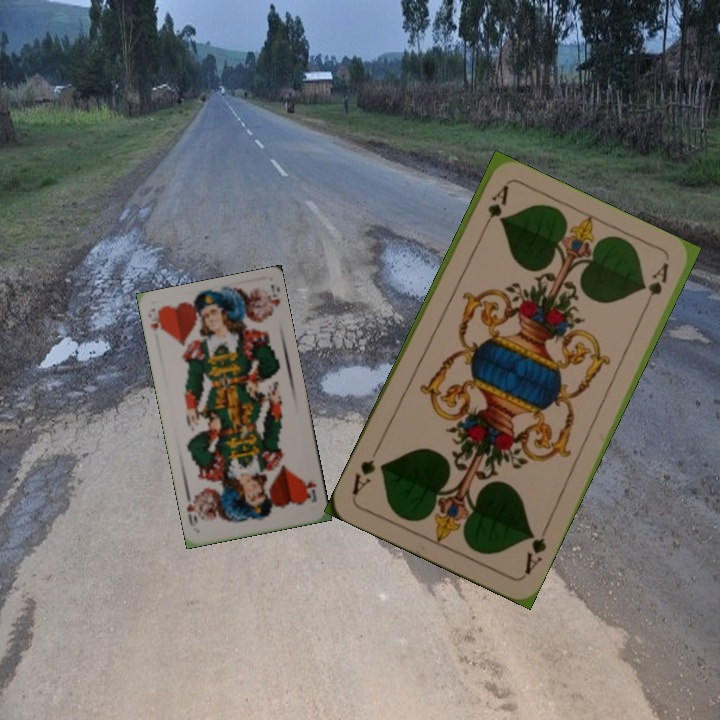GA: (476, 182, 511, 237), (520, 522, 550, 577)
HO: (299, 474, 319, 505), (146, 305, 166, 335)
